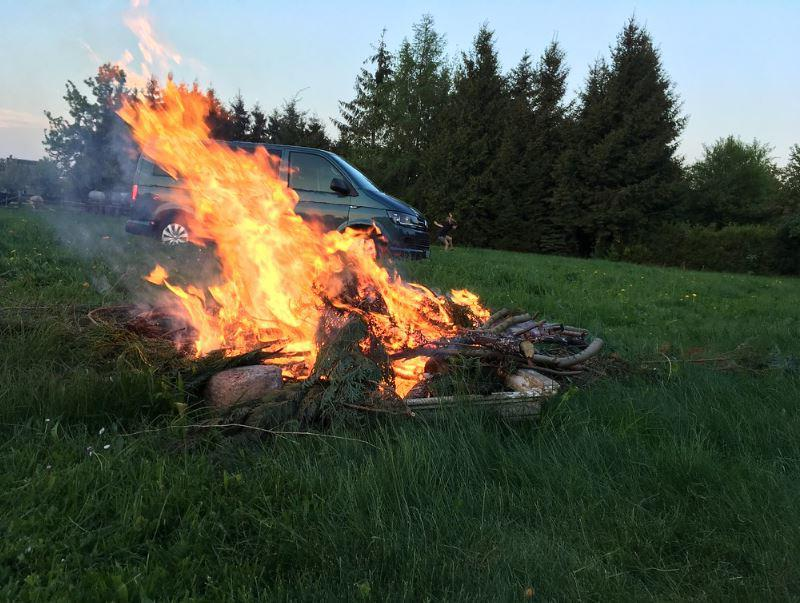Fire: (57, 4, 485, 387)
